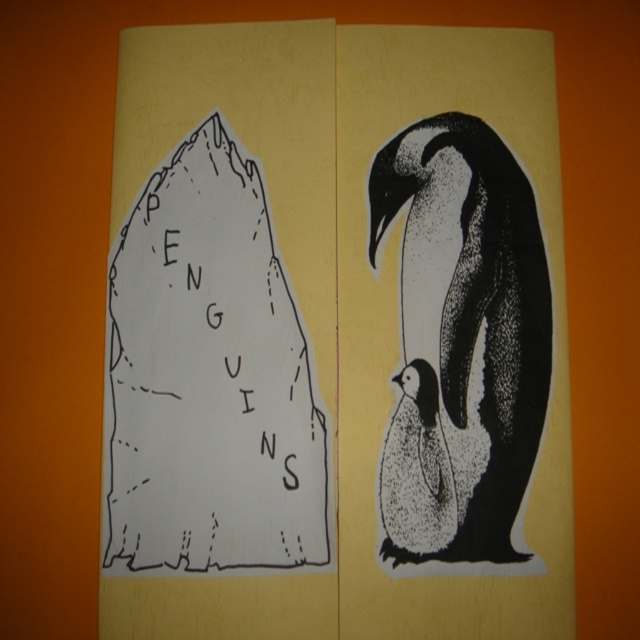Penguin: (348, 108, 559, 596), (376, 360, 460, 568)
